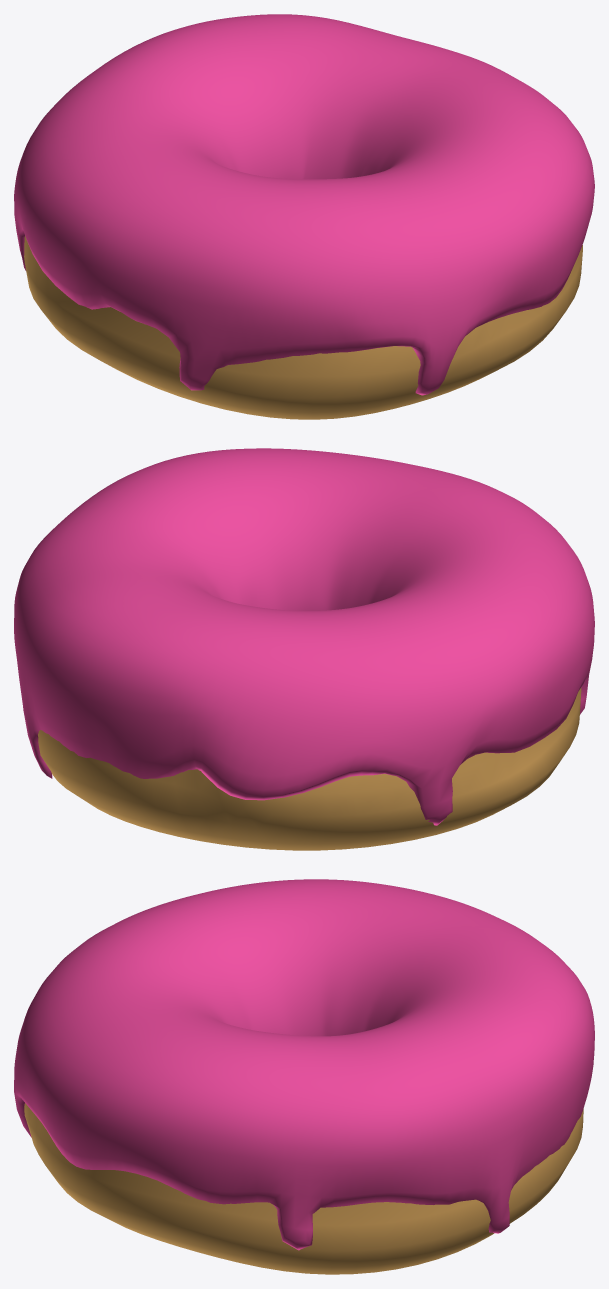
3 views of the same model, one above another, from view 1: azimuth 30°, elevation 25°; view 2: azimuth 150°, elevation 25°; view 3: azimuth 270°, elevation 25° (orthographic). The views are drawn at different scales.
Parts seen in each view (by area): view 1: Icing, Donut; view 2: Icing, Donut; view 3: Icing, Donut.
Boxes of the visible parts, box(x1,y1,x2,y2) form: Icing: box(14, 14, 594, 395); Donut: box(24, 236, 582, 419); Icing: box(14, 448, 594, 825); Donut: box(38, 687, 581, 850); Icing: box(14, 879, 594, 1250); Donut: box(24, 1103, 583, 1274).
Bounding box in the file's own units: 123 × 55 × 126.
